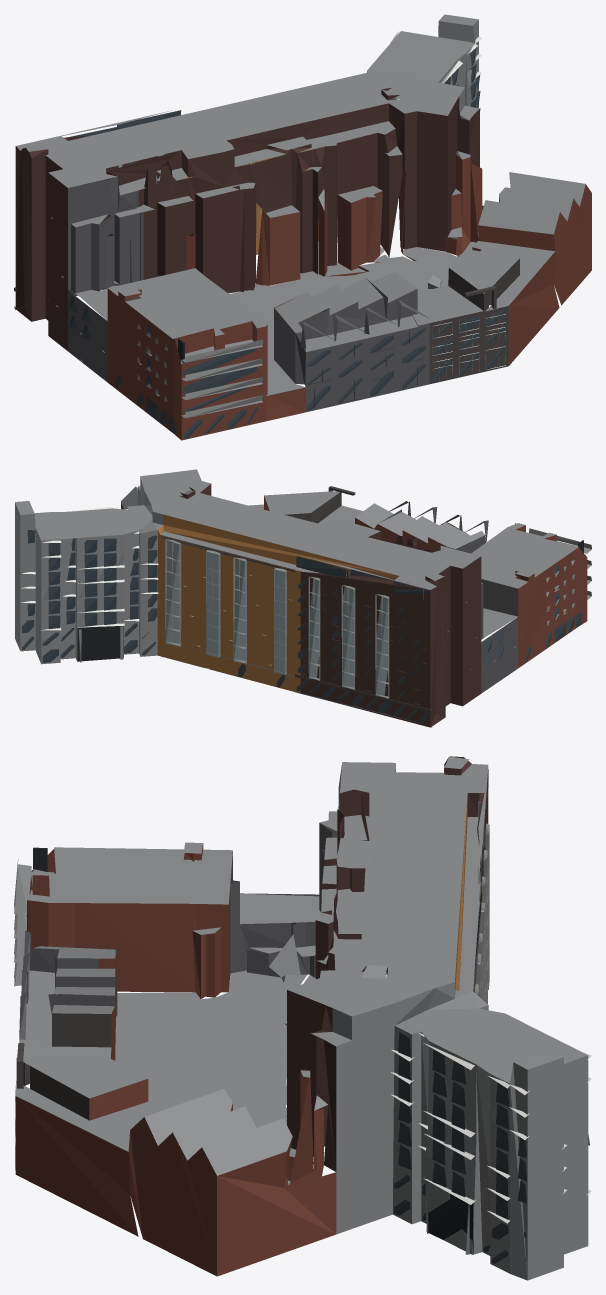
Rendered from houthavenkade-26.lod1.glb.
The picture shows the model from 3 angles, top to bottom: view 1: azimuth 30°, elevation 25°; view 2: azimuth 150°, elevation 25°; view 3: azimuth 270°, elevation 25°; orthographic projection. The views are drawn at different scales.
Parts seen in each view (by area): view 1: houthavenkade-26; view 2: houthavenkade-26; view 3: houthavenkade-26.
Part boxes in pixels (box(x1,y1,x2,y2)): houthavenkade-26: box(14, 14, 591, 440); houthavenkade-26: box(14, 469, 591, 727); houthavenkade-26: box(14, 756, 591, 1280).
Bounding box in the file's own units: 90.64 × 29.77 × 71.02.
